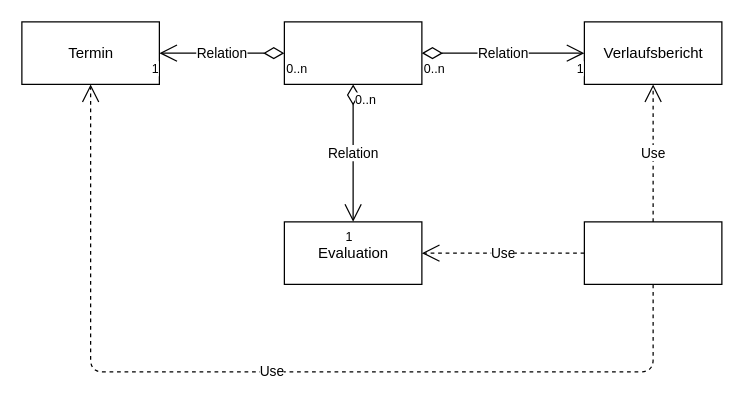
Some shapes in this 744 by 411 pixel diagram are drawn without their labels. The shapes that lost their labels are listed below. From the top down, each one's centre as x and y in pixels, then its label:
At [352,52]: "Patient".
At [652,252]: "Spitexmitarbeiter".
